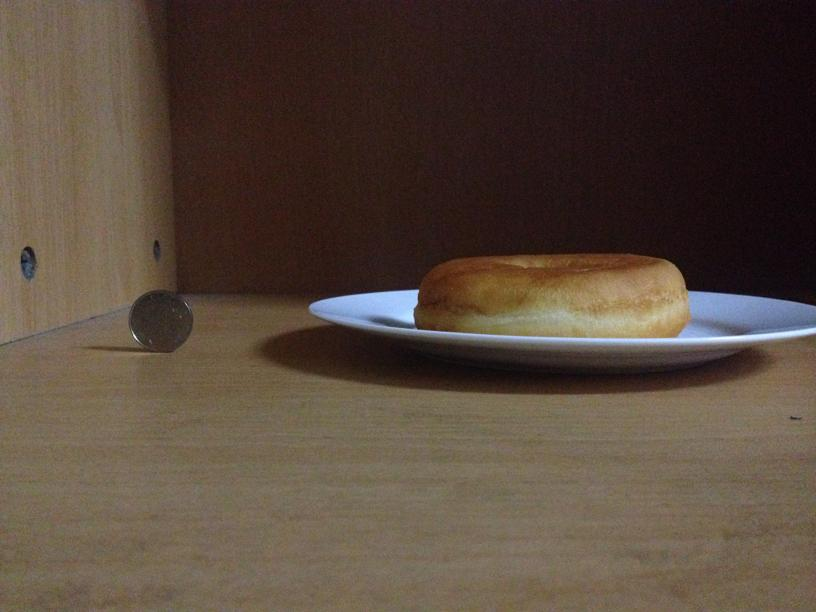coin: (125, 284, 192, 353)
doughnut: (416, 257, 689, 341)
